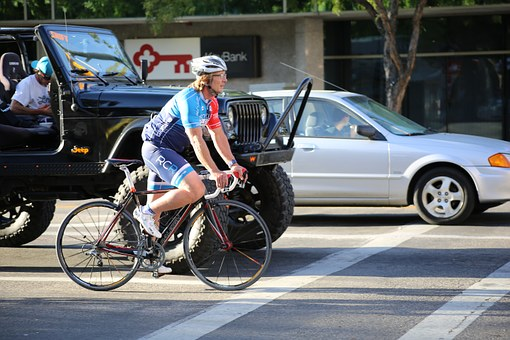bikerider: (50, 49, 273, 295)
